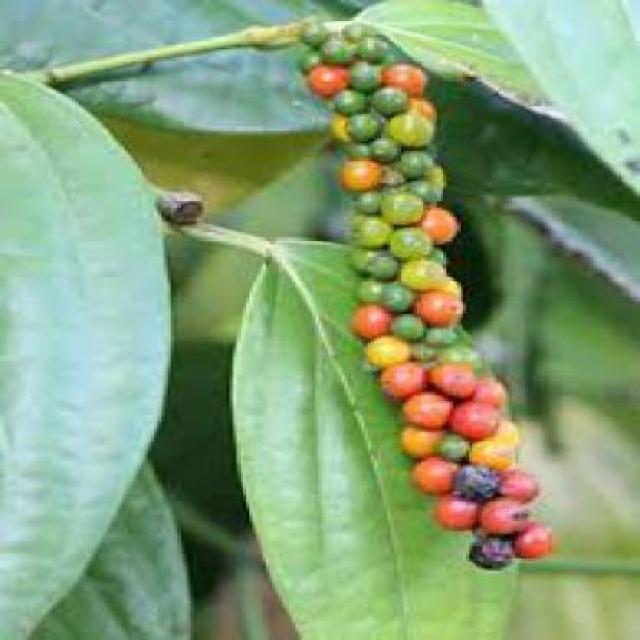RIPE: (354, 280, 558, 571)
